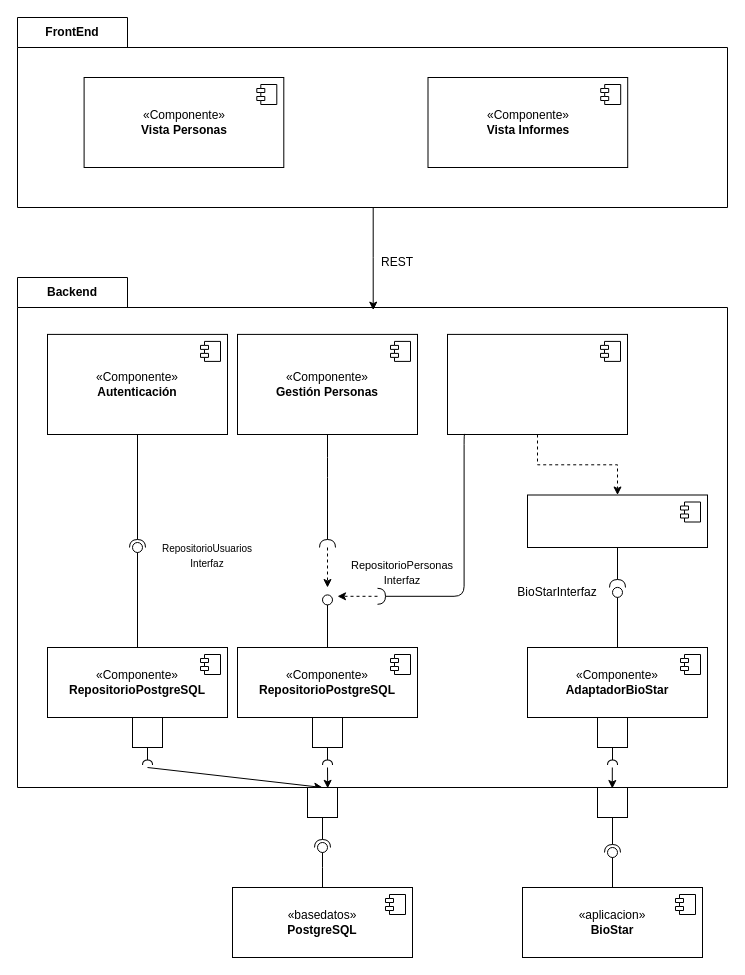
Some shapes in this 745 by 975 pixel diagram are drawn without their labels. Each missing label, with the centre of its shape:
"«Componente» BioStar" belongs at [617,521].
"«Componente» Servicio Informes" belongs at [537,383].
